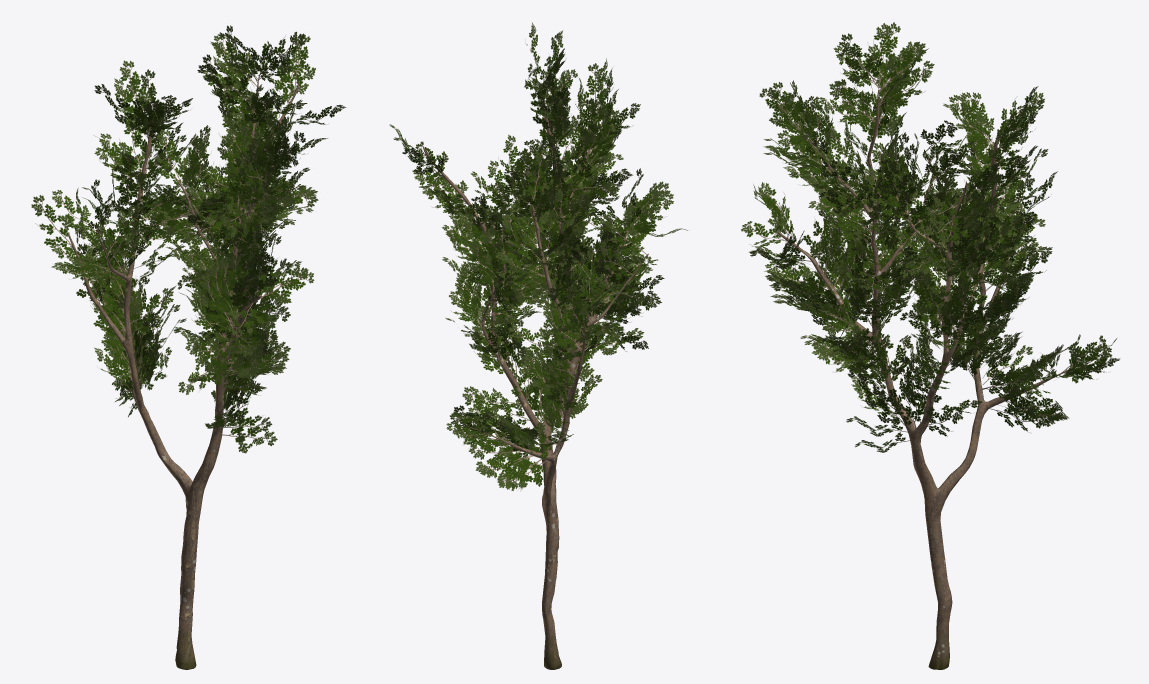
The model's file is tree.glb.
3 renders of one model, left to right at view 1: azimuth 30°, elevation 25°; view 2: azimuth 150°, elevation 25°; view 3: azimuth 270°, elevation 25°, orthographic. The views are drawn at different scales.
Visible parts, largest first — view 1: Plane.008; view 2: Plane.008; view 3: Plane.008.
Boxes of the visible parts, box(x1,y1,x2,y2) form: Plane.008: box(31, 25, 346, 669); Plane.008: box(389, 22, 687, 669); Plane.008: box(741, 22, 1119, 669).
Size of the model in its own units: 9.18 by 19.68 by 10.94.
2 materials, 2 textured.
